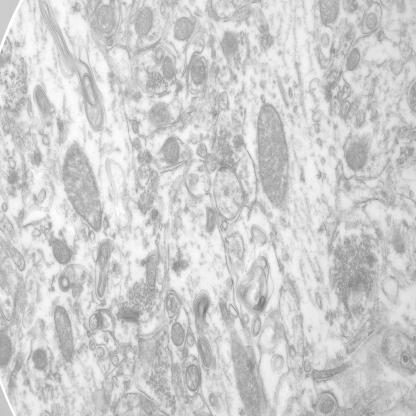mitochondria: (61, 138, 104, 234), (255, 100, 290, 208), (227, 325, 263, 414), (53, 301, 75, 364), (132, 4, 156, 41), (344, 138, 368, 174), (50, 232, 74, 266), (95, 2, 118, 35), (172, 12, 196, 42), (184, 358, 202, 396), (162, 288, 182, 322), (318, 0, 340, 29), (161, 136, 181, 165), (190, 55, 206, 90), (168, 318, 184, 350), (162, 53, 178, 80)
